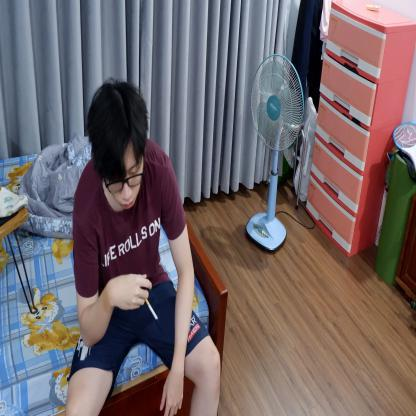cigarette: (144, 298, 158, 322)
person: (66, 83, 216, 415)
